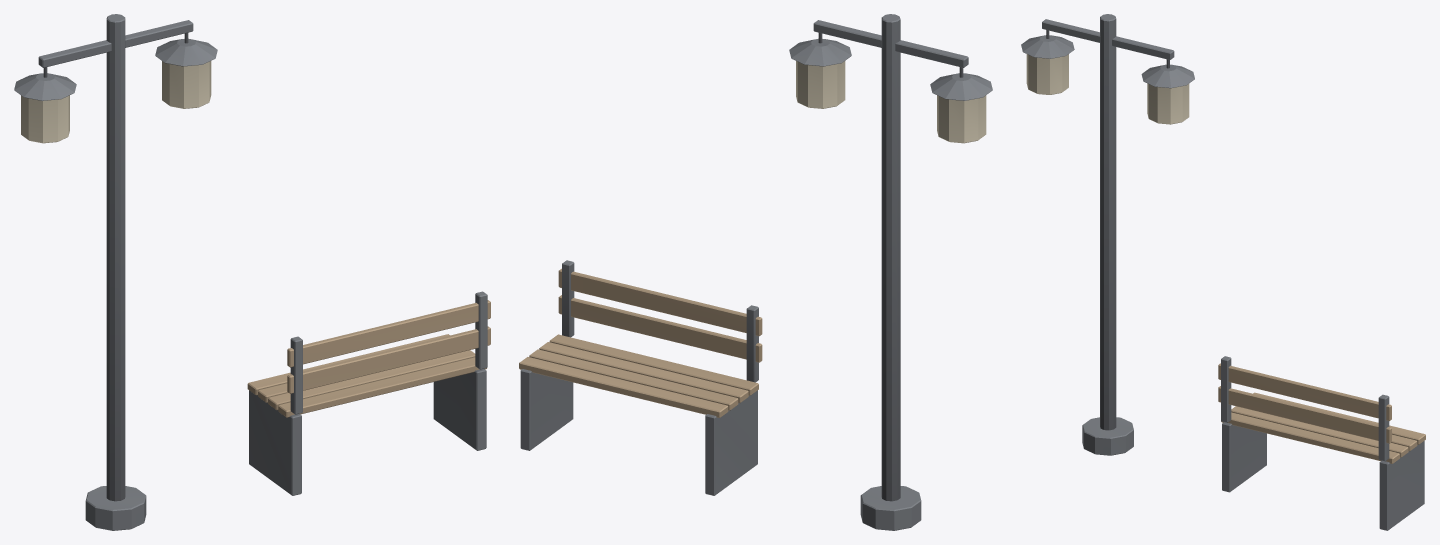
Rendered from promenade.glb.
The picture shows the model from 3 angles, left to right: view 1: azimuth 30°, elevation 25°; view 2: azimuth 150°, elevation 25°; view 3: azimuth 330°, elevation 25°; orthographic projection. The views are drawn at different scales.
Size of the model in its own units: 2.68 by 2.85 by 0.47.
